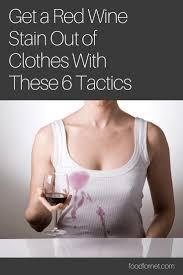oil: (90, 199, 117, 235), (68, 190, 88, 226), (62, 170, 93, 193)
